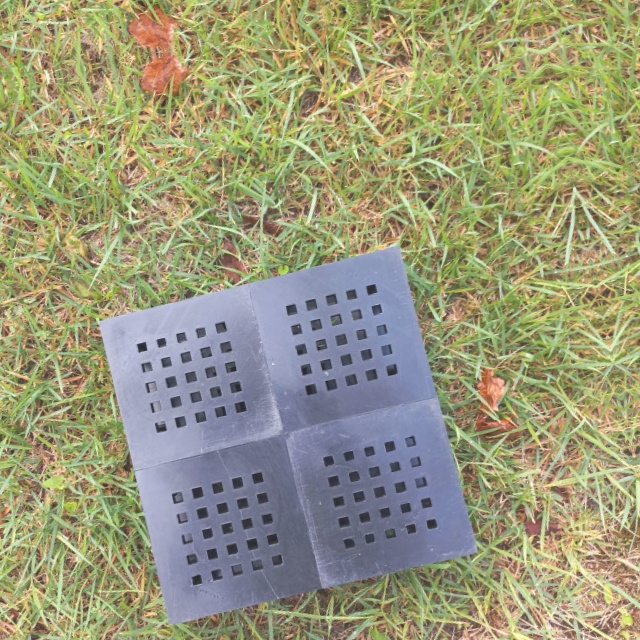pallet: (74, 237, 502, 621)
